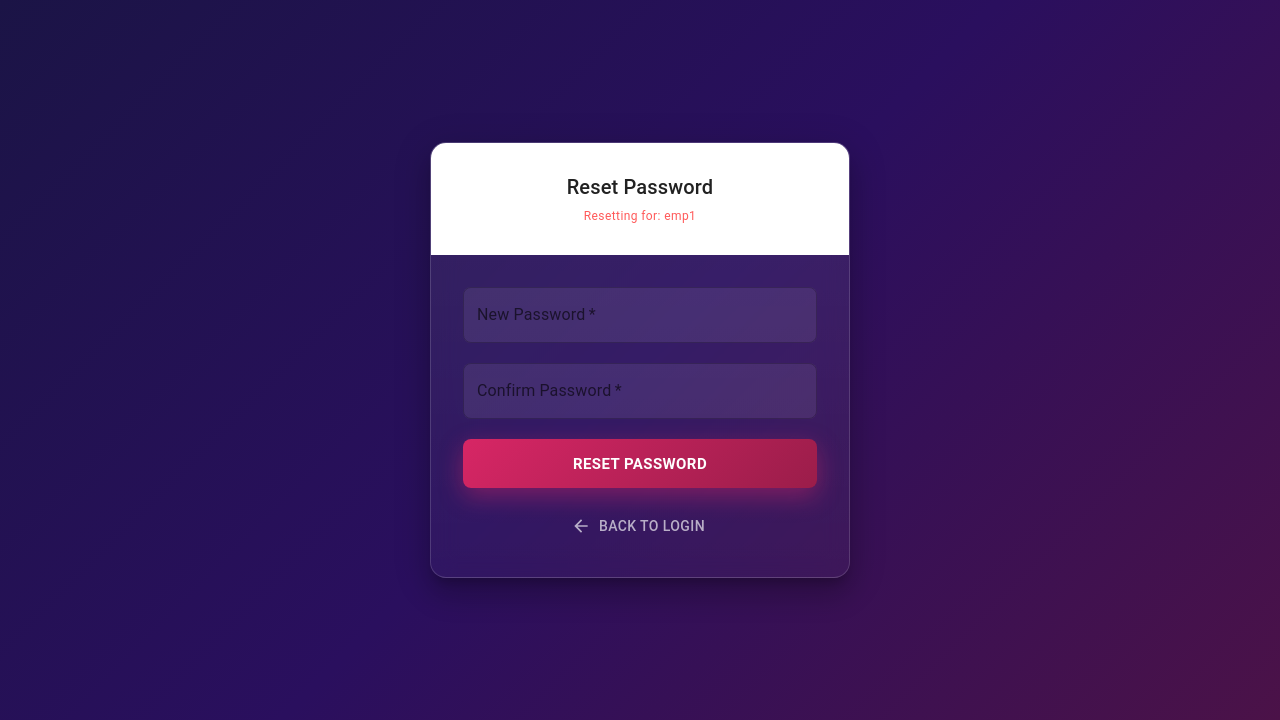
ResetPasswordPage › shows error when password is too short
In the password field labelled "New Password *": (640, 315) [463,287,817,343], type "123"
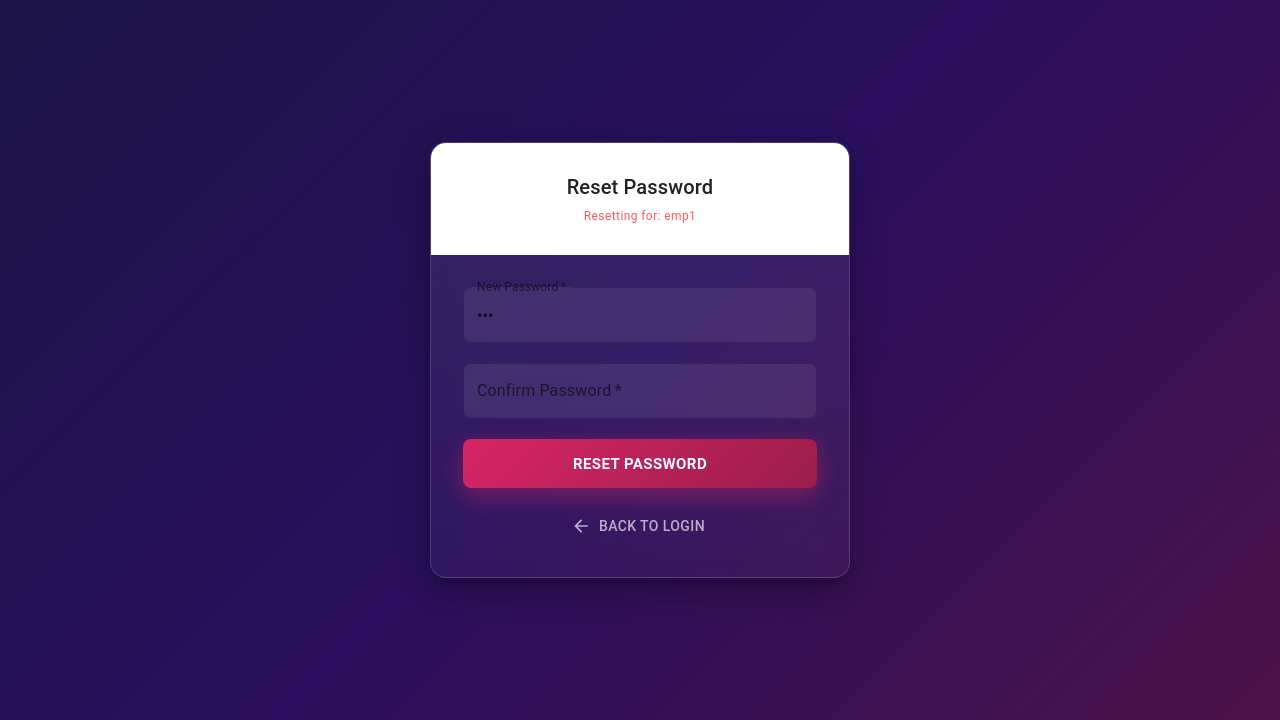
In the password field labelled "Confirm Password *": (640, 391) [463,363,817,419], type "123"
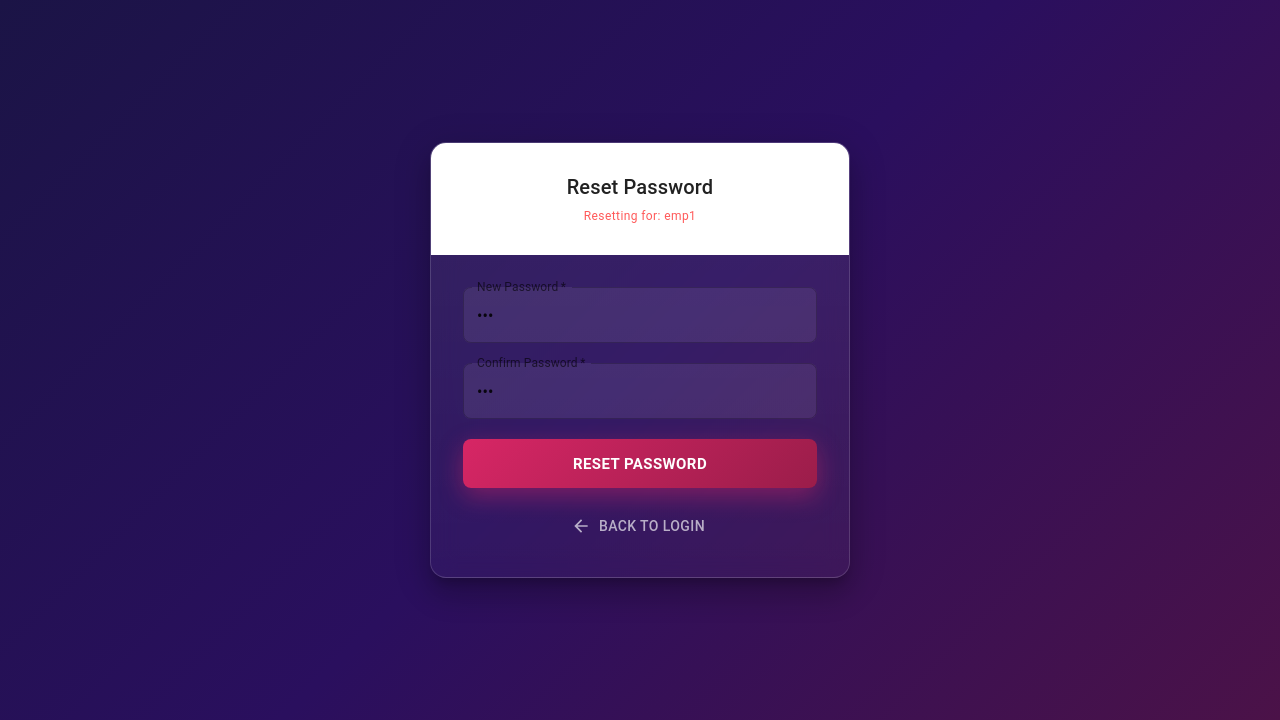
Click the button "Reset Password": (640, 464) [463,439,817,488]
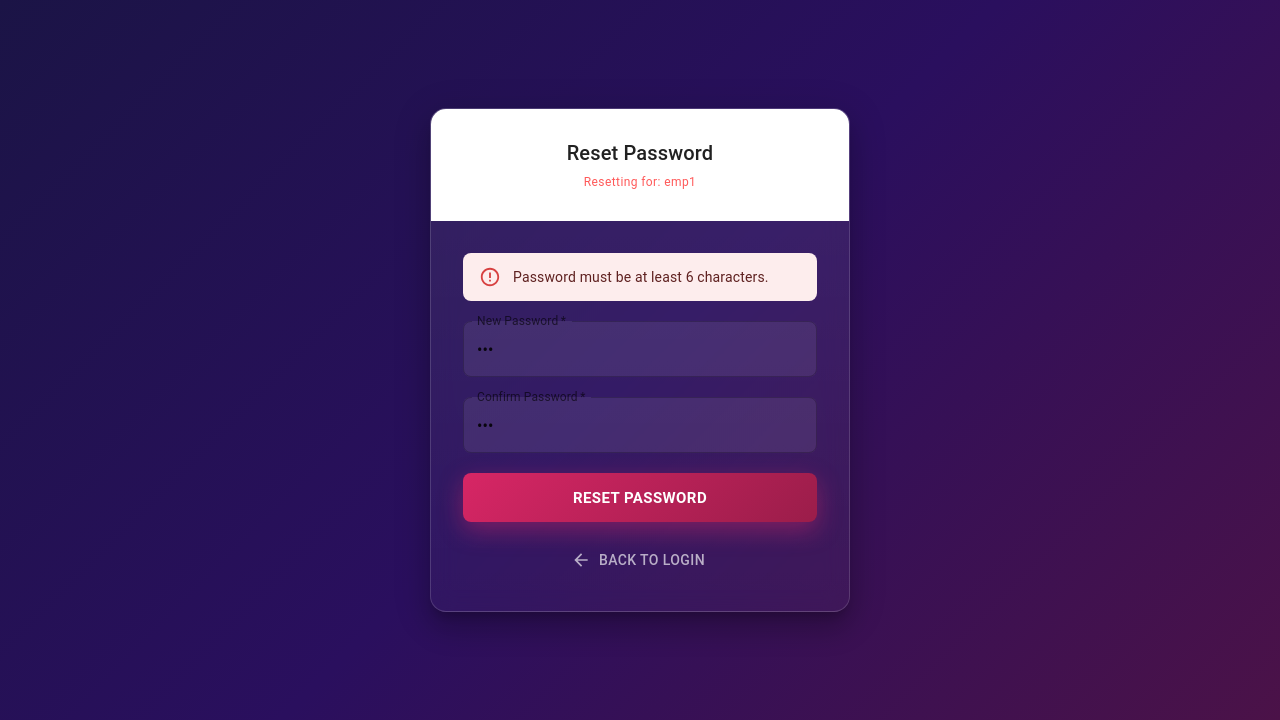
Expected: the text "Password must be at least 6 characters." is shown, [513,269,769,285]
